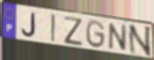G: (85, 19, 106, 50)
I: (50, 14, 57, 44)
J: (21, 12, 37, 39)
N: (127, 25, 153, 58), (107, 22, 129, 52)
Z: (63, 15, 84, 47)
